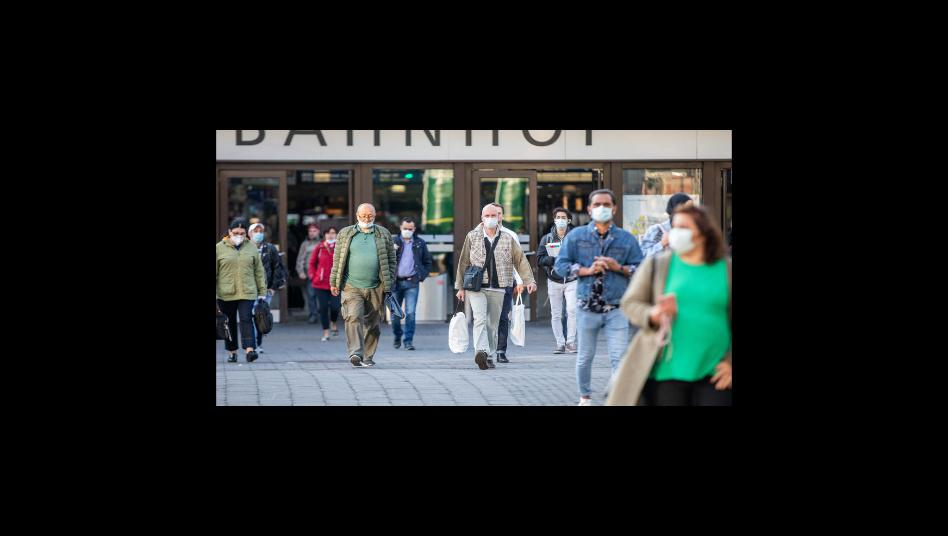mask_weared_incorrect: (359, 211, 375, 227), (326, 232, 336, 243)
with_mask: (668, 222, 697, 252), (592, 200, 613, 218), (483, 211, 500, 228), (231, 229, 245, 244), (402, 224, 414, 238), (556, 215, 568, 226), (252, 229, 265, 239)
without_mask: (308, 229, 317, 238)
